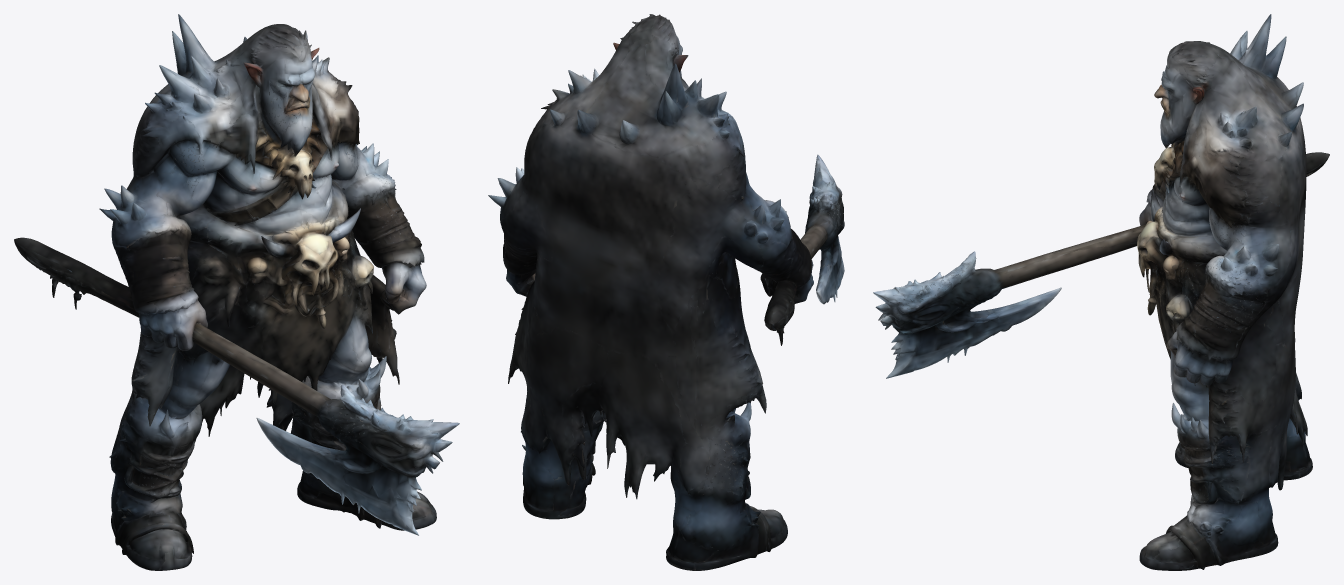
The model's file is frost_giant.glb.
3 renders of one model, left to right at view 1: azimuth 30°, elevation 25°; view 2: azimuth 150°, elevation 25°; view 3: azimuth 270°, elevation 25°, orthographic. The views are drawn at different scales.
Parts seen in each view (by area): view 1: material; view 2: material; view 3: material.
Boxes of the visible parts, x1,y1,x2,y2 form: material: [14, 14, 459, 570]; material: [488, 14, 844, 570]; material: [873, 14, 1329, 570].
Size of the model in its own units: 0.647 by 0.9167 by 0.806.
Materials: 1 (1 with a texture image).
